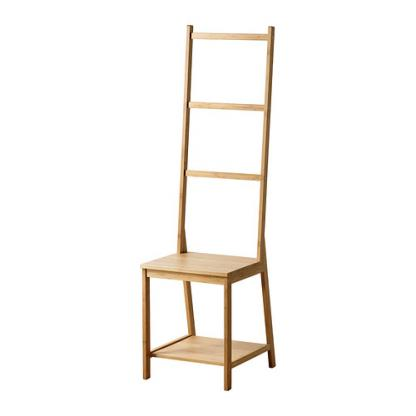Chair: (134, 20, 284, 395)
